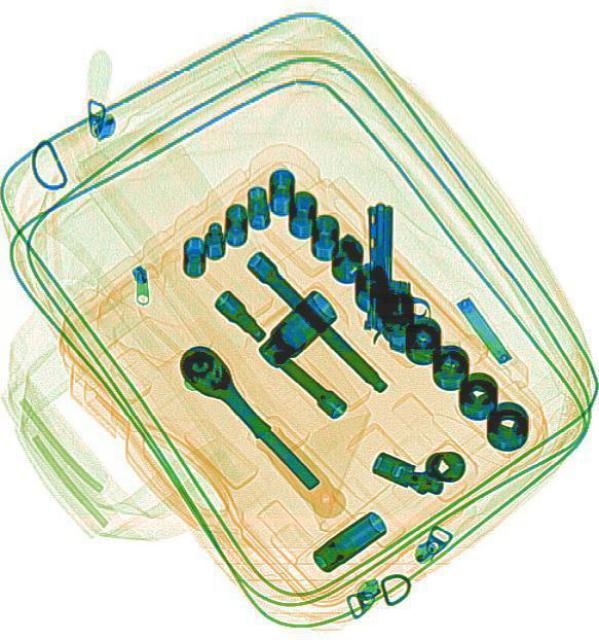Gun: (359, 201, 435, 351)
